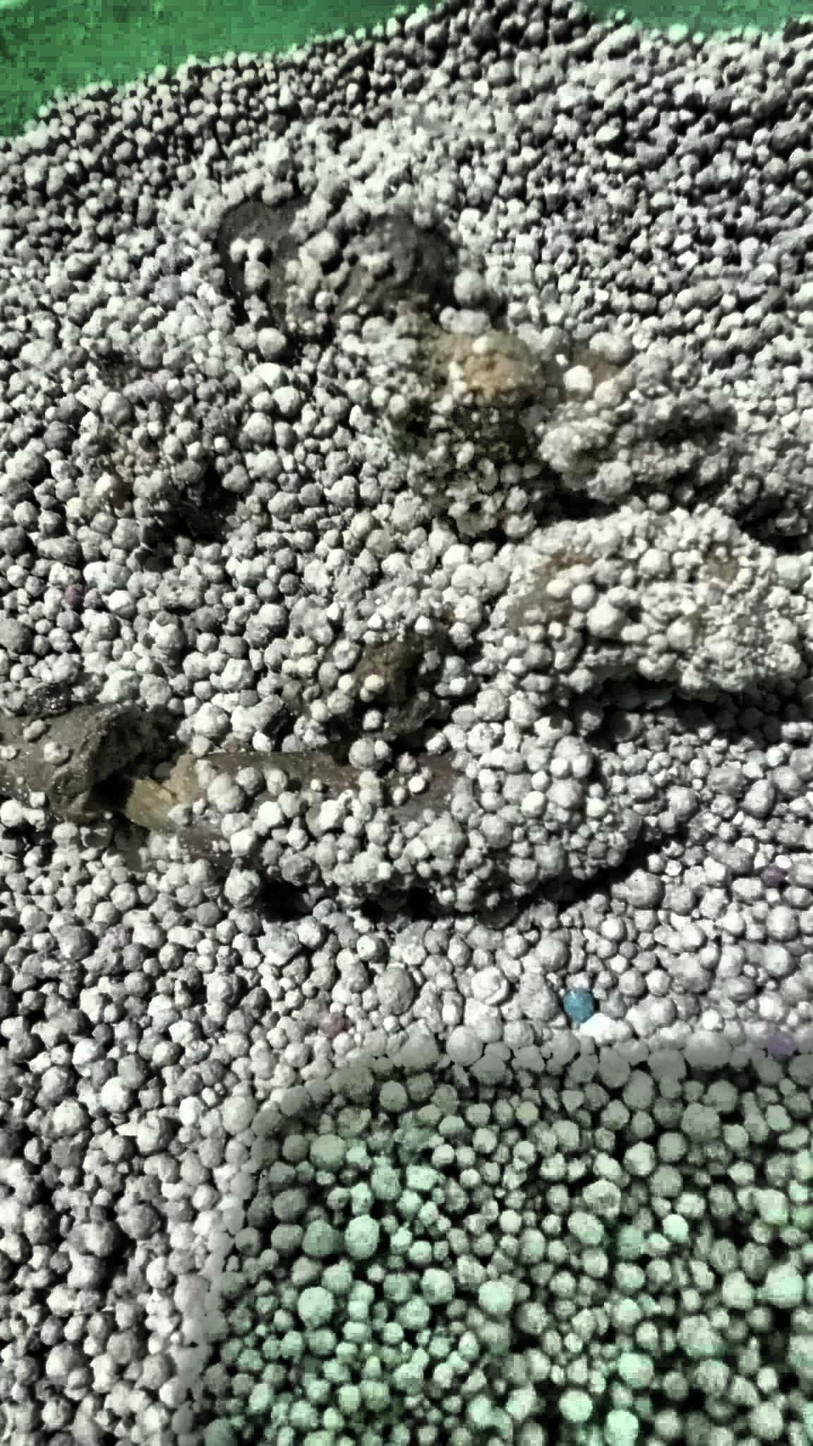poop: (0, 160, 812, 949)
